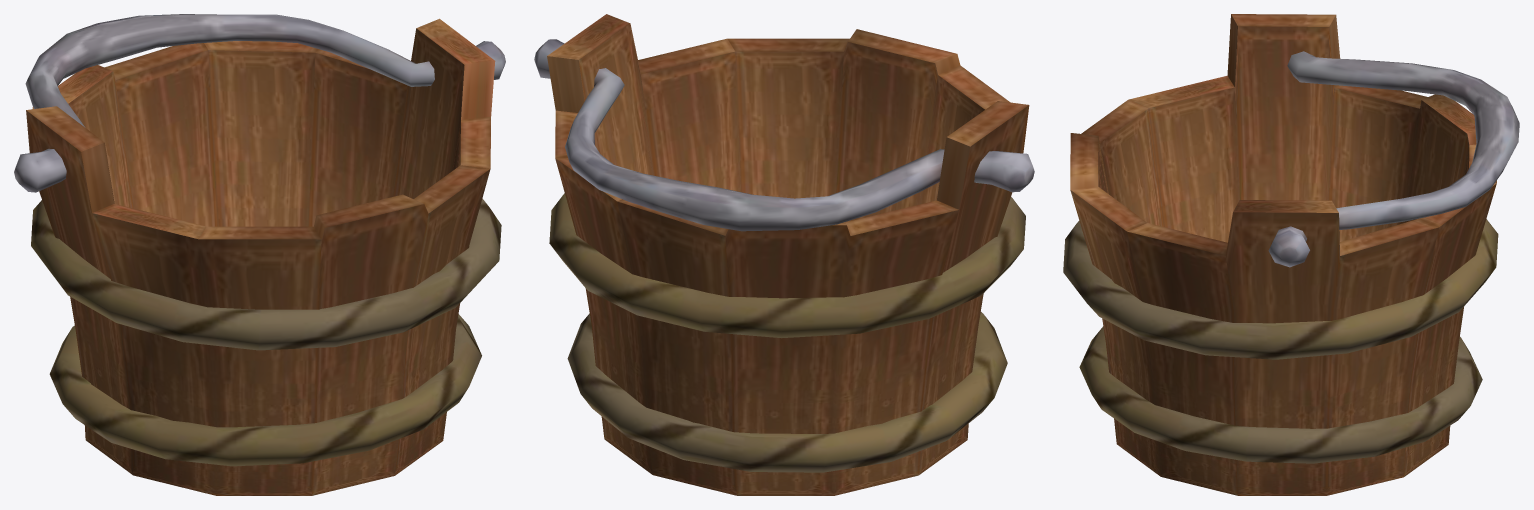
Rendered from quaternius-fantasy-props-bucket-wooden-1.glb.
3 views of the same model, side by side, from view 1: azimuth 30°, elevation 25°; view 2: azimuth 150°, elevation 25°; view 3: azimuth 270°, elevation 25° (orthographic). The views are drawn at different scales.
Visible parts, largest first — view 1: Bucket_Wooden_1; view 2: Bucket_Wooden_1; view 3: Bucket_Wooden_1.
Part boxes in pixels (box(x1,y1,x2,y2)): Bucket_Wooden_1: box(14, 14, 505, 495); Bucket_Wooden_1: box(534, 14, 1034, 495); Bucket_Wooden_1: box(1063, 14, 1519, 495).
Size of the model in its own units: 0.55 by 0.3711 by 0.486.
2 materials, 2 textured.
